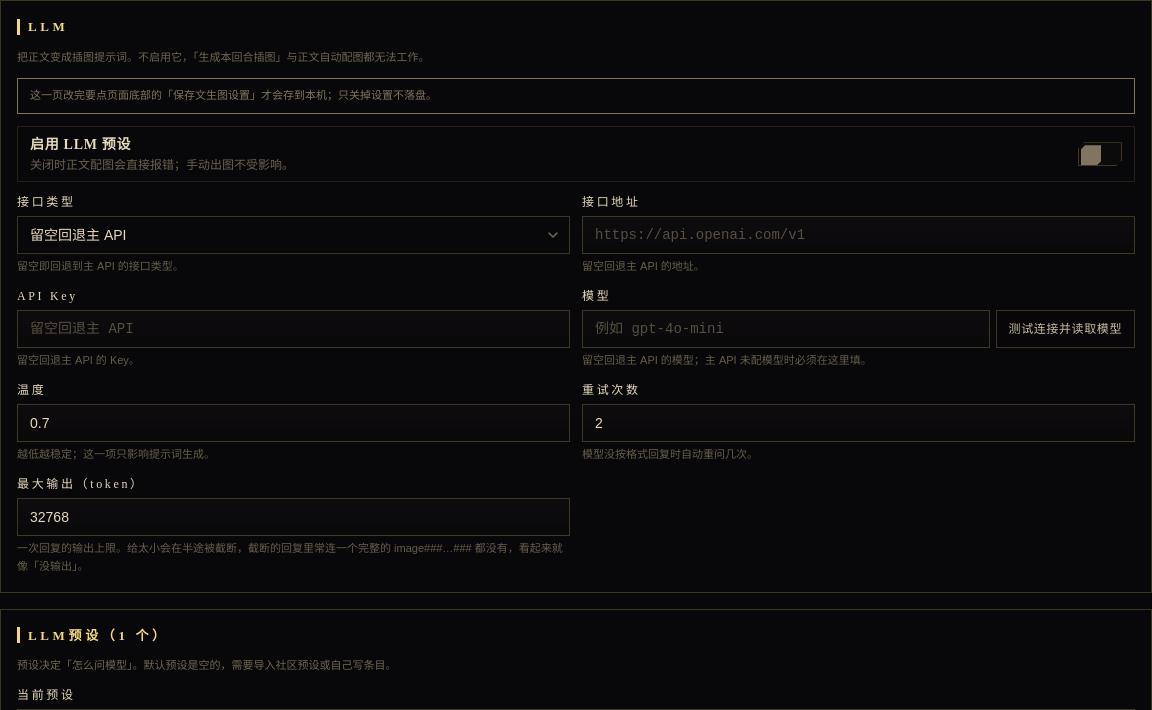
Test case: LLM 预设面板：读取模型列表 › 接口读不通时把错误显示出来，而不是静默
This screenshot has width=1152, height=710.
Click the button "测试连接并读取模型".
click(1065, 329)  # box x1=996 y1=310 x2=1135 y2=348
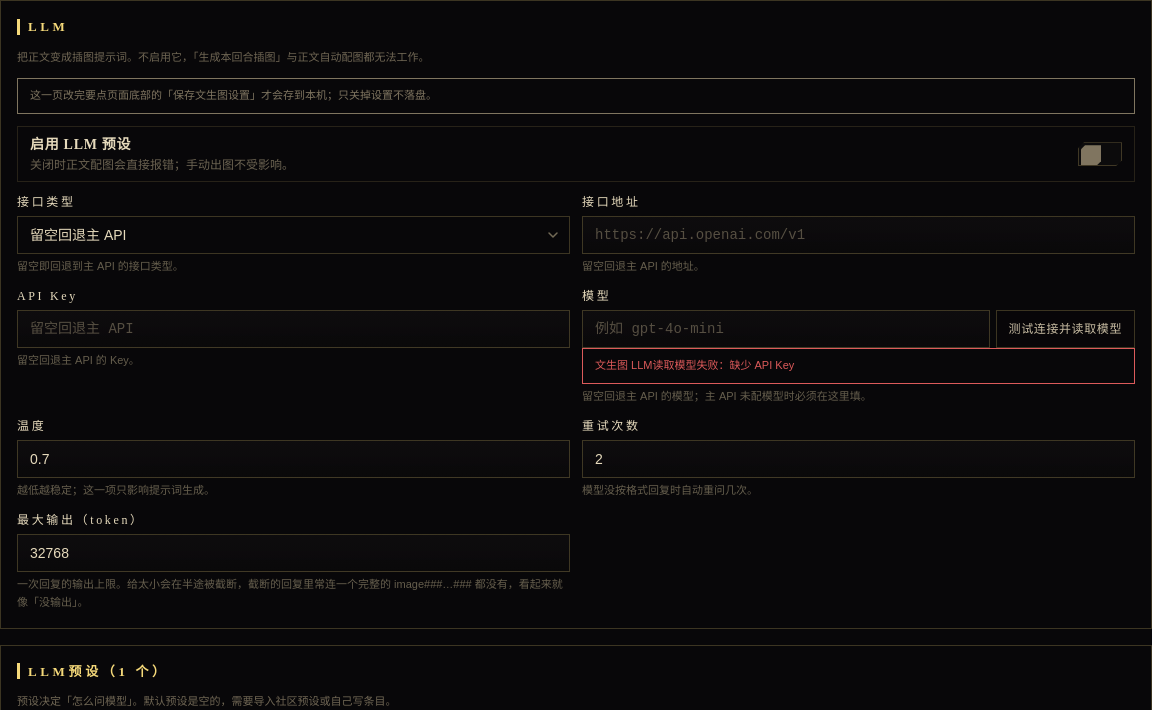
Expected: the text "读取模型失败：缺少 API Key" is shown, x1=595 y1=359 x2=794 y2=371
